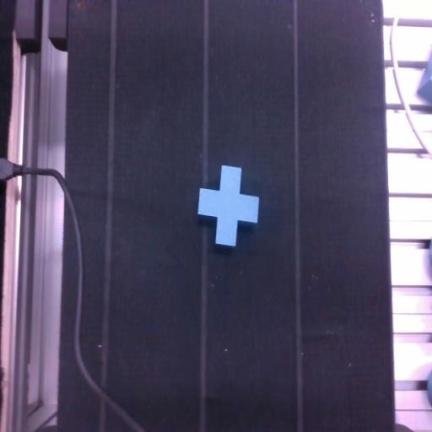cross: (198, 166, 259, 247)
